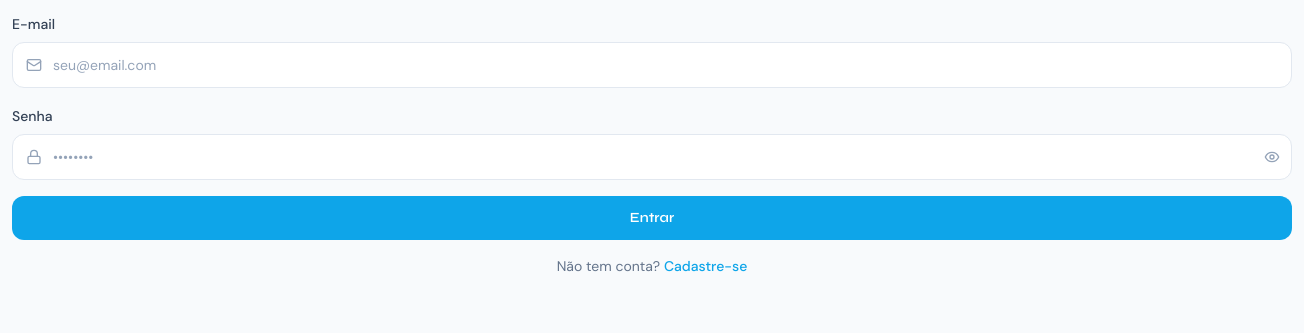
LoginForm › exibe erro de e-mail inválido
Click the button "Entrar". click: (652, 218)
box: [12, 196, 1292, 240]
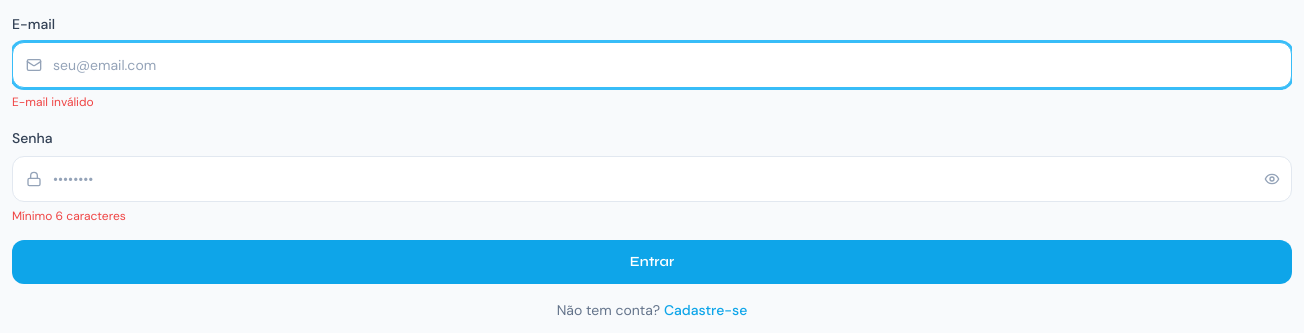
Expected: the text "E-mail inválido" is shown, [12, 94, 94, 110]
